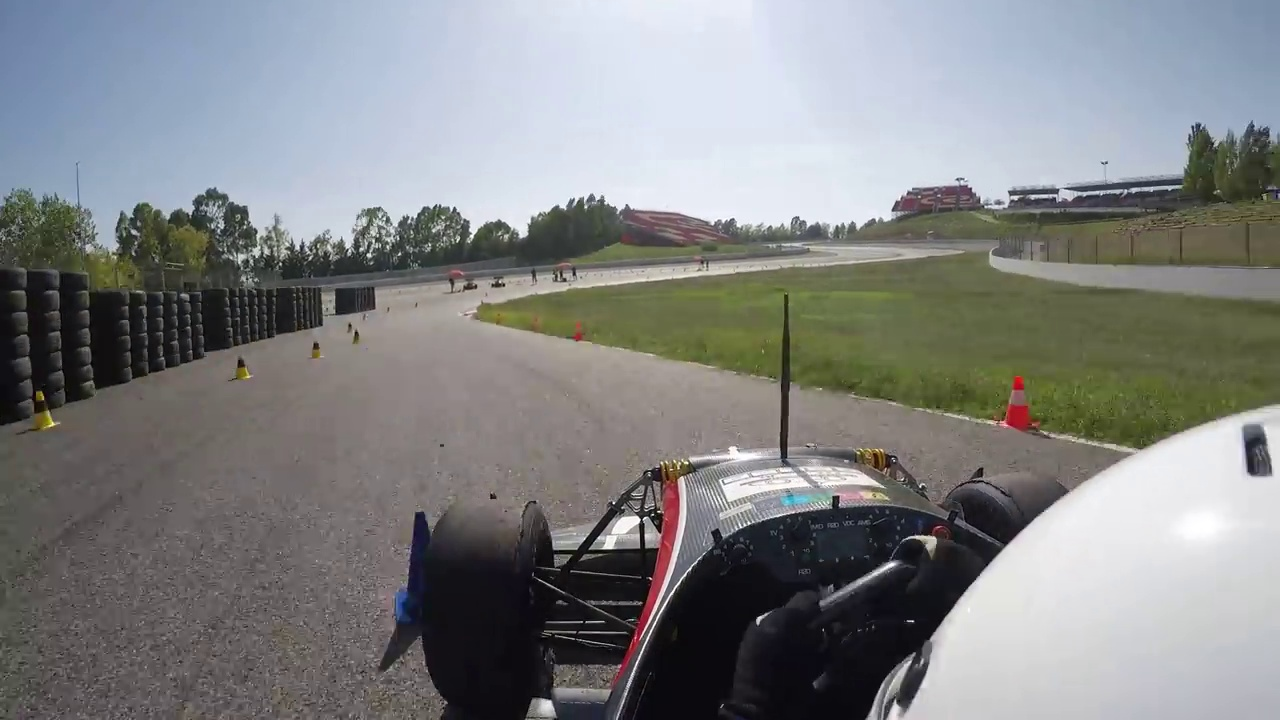Cone: (1000, 373, 1035, 430), (28, 389, 57, 431)
